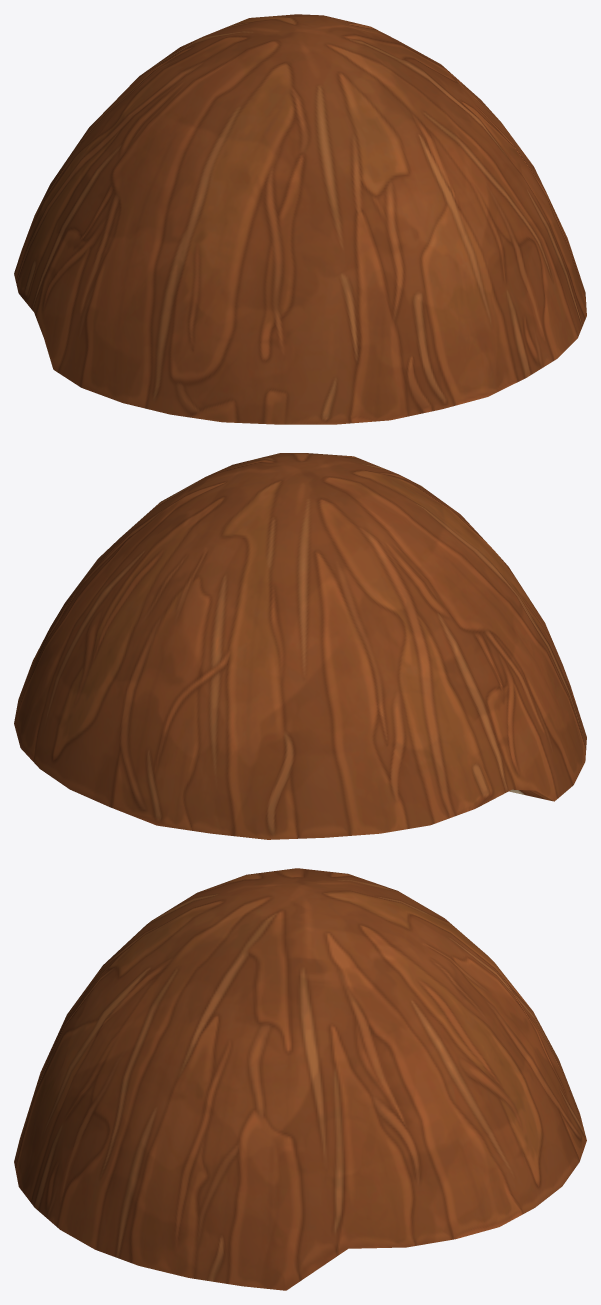
The model's file is SM_CoconutTop.fbx.
3 renders of one model, top to bottom at view 1: azimuth 30°, elevation 25°; view 2: azimuth 150°, elevation 25°; view 3: azimuth 270°, elevation 25°, orthographic.
Visible parts, largest first — view 1: SM_CoconutTop; view 2: SM_CoconutTop; view 3: SM_CoconutTop.
Boxes of the visible parts, box(x1,y1,x2,y2) form: SM_CoconutTop: box(14, 14, 586, 424); SM_CoconutTop: box(14, 453, 586, 839); SM_CoconutTop: box(14, 868, 586, 1290).
Bounding box in the file's own units: 16.79 × 8.88 × 16.41.
